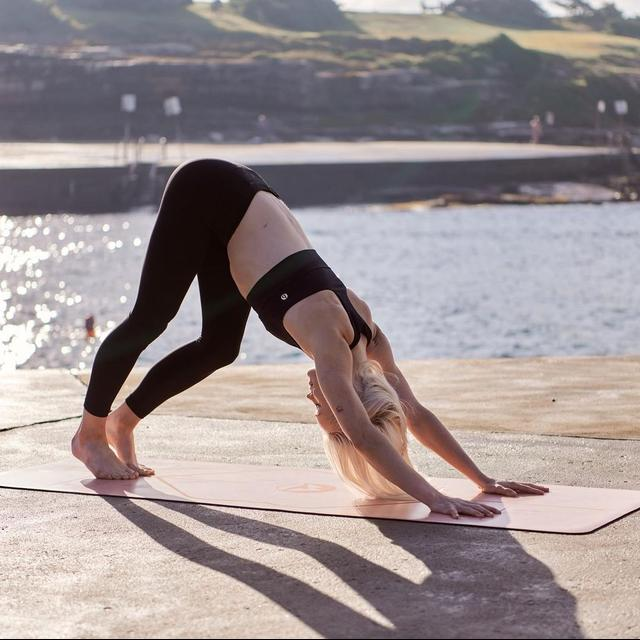Downward-Facing_Dog: (65, 154, 557, 527)
